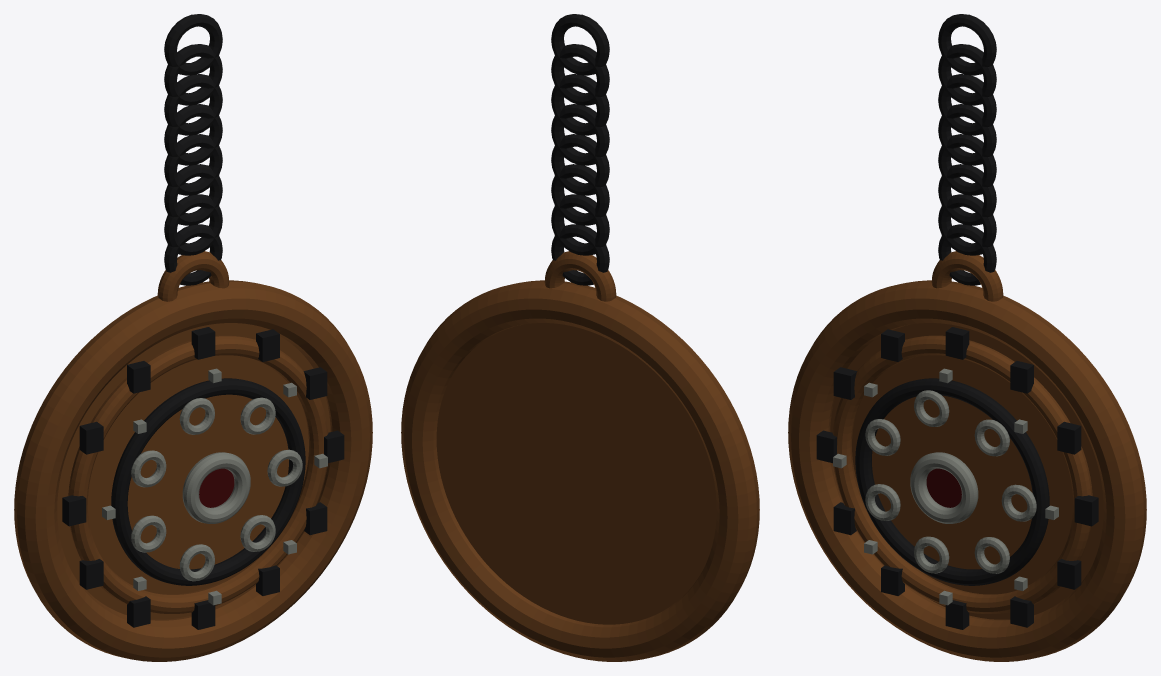
Rendered from VeilSealAmulet.obj.
The picture shows the model from 3 angles, left to right: view 1: azimuth 30°, elevation 25°; view 2: azimuth 150°, elevation 25°; view 3: azimuth 330°, elevation 25°; orthographic projection.
Parts seen in each view (by area): view 1: aged_bronze, black_iron, oxidized_silver, red_enamel; view 2: aged_bronze, black_iron; view 3: aged_bronze, black_iron, oxidized_silver, red_enamel.
Part boxes in pixels (bbox=[...]): aged_bronze: bbox=[14, 251, 372, 661]; black_iron: bbox=[62, 14, 344, 629]; oxidized_silver: bbox=[102, 368, 327, 605]; red_enamel: bbox=[199, 468, 234, 507]; aged_bronze: bbox=[401, 251, 759, 661]; black_iron: bbox=[551, 14, 609, 285]; aged_bronze: bbox=[788, 251, 1146, 661]; black_iron: bbox=[816, 14, 1098, 629]; oxidized_silver: bbox=[833, 368, 1058, 605]; red_enamel: bbox=[926, 468, 961, 507].
Size of the model in its own units: 0.123 by 0.2135 by 0.023.
